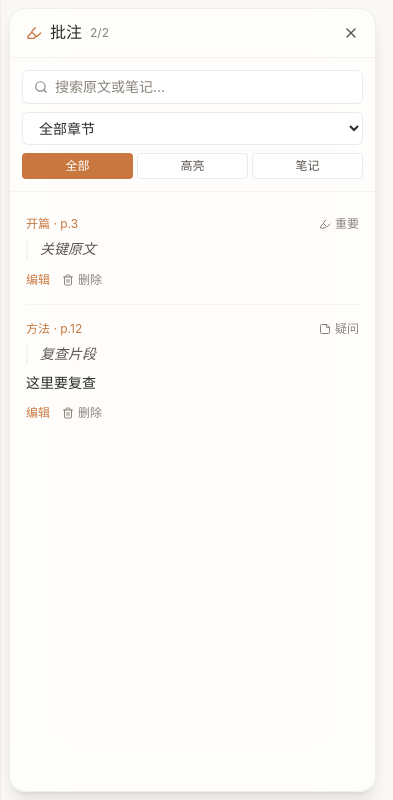
AnnotationPanel › announces edit failures and keeps the editor open
Click the 1st button "编辑" at [38, 280], box 26,272 -> 50,288
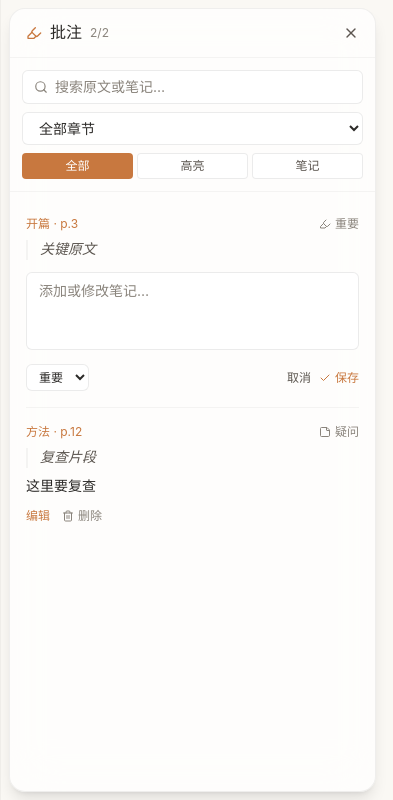
Type "补充想法" into the text box named "批注笔记" at [192, 311], box 26,272 -> 359,350
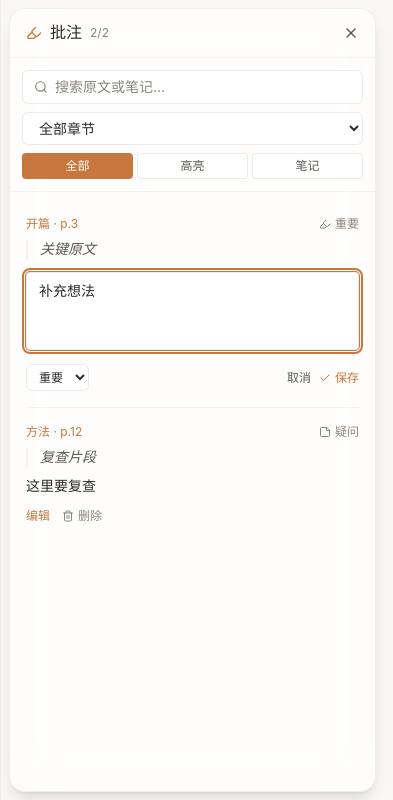
Click the button "保存" at [339, 378], box 319,370 -> 359,386
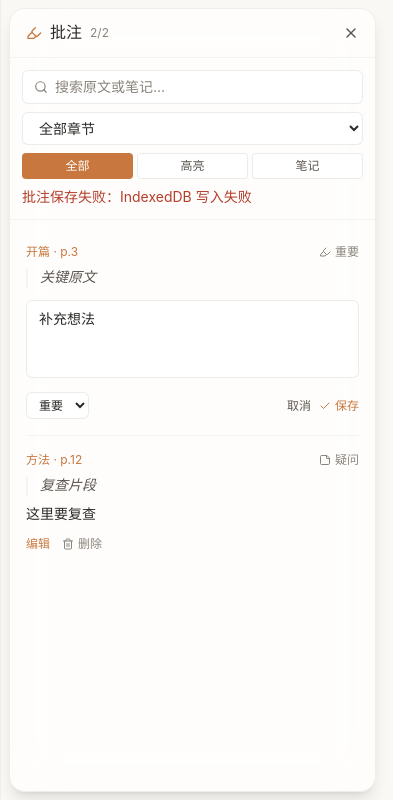
Check: the button "保存" is enabled, box 319,398 -> 359,414
Check: the message "批注保存失败：IndexedDB 写入失败" is shown, box 22,188 -> 252,205
